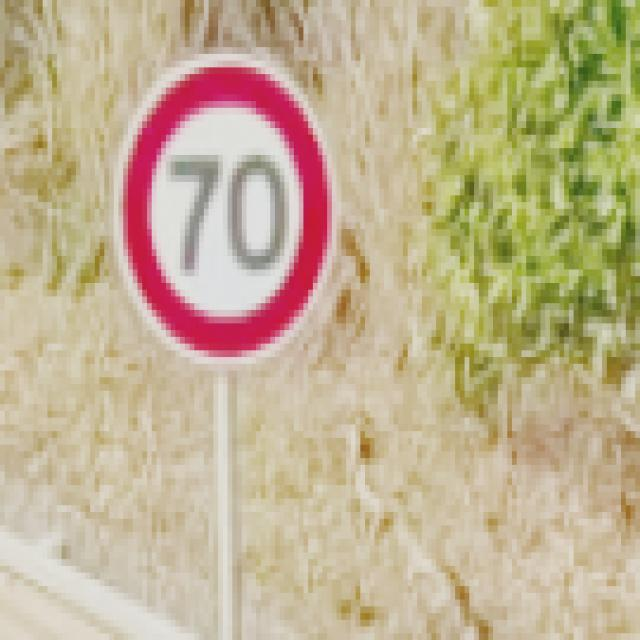speed_70: (114, 54, 340, 374)
